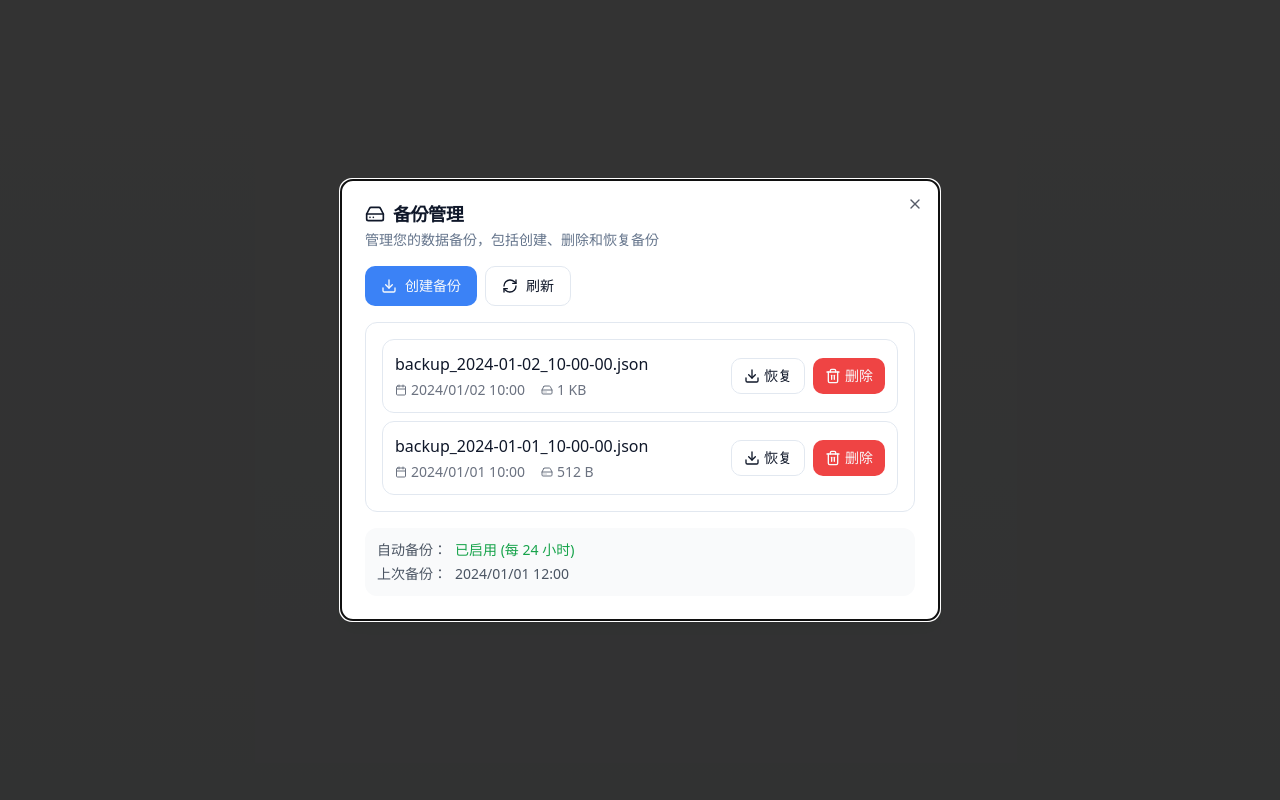
it: BackupManagerModal › should create backup successfully
Click the button "创建备份".
click(421, 286)  # box [365,266,477,306]
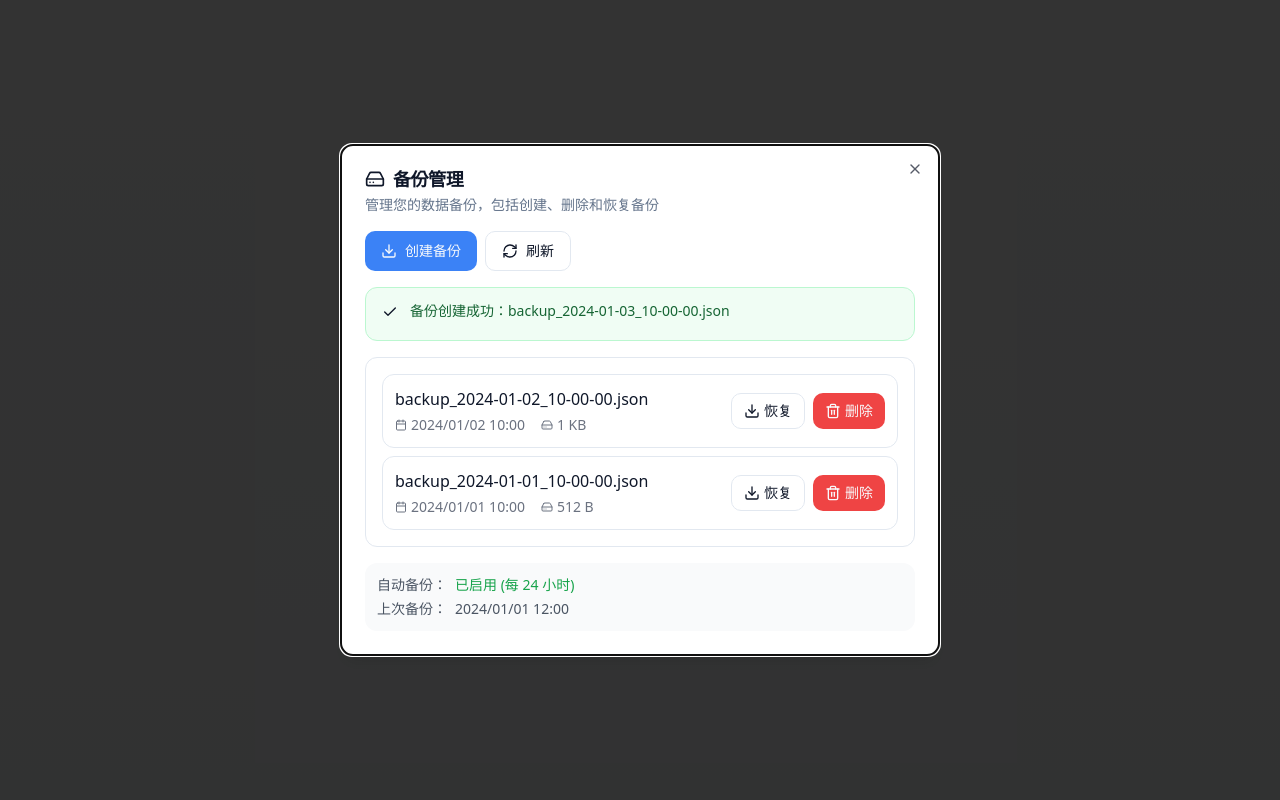
Result: the text "备份创建成功：backup_2024-01-03_10-00-00.json" is shown at [410,301,730,320]
